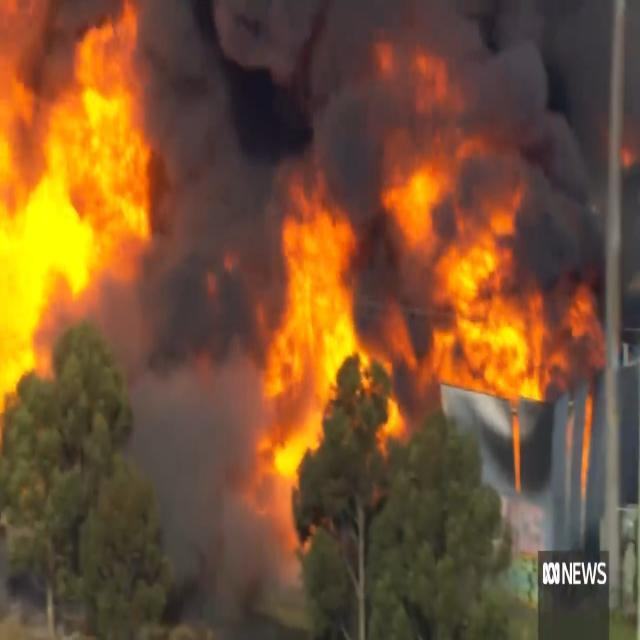fire: (382, 36, 587, 426), (0, 12, 150, 393), (271, 189, 408, 491)
